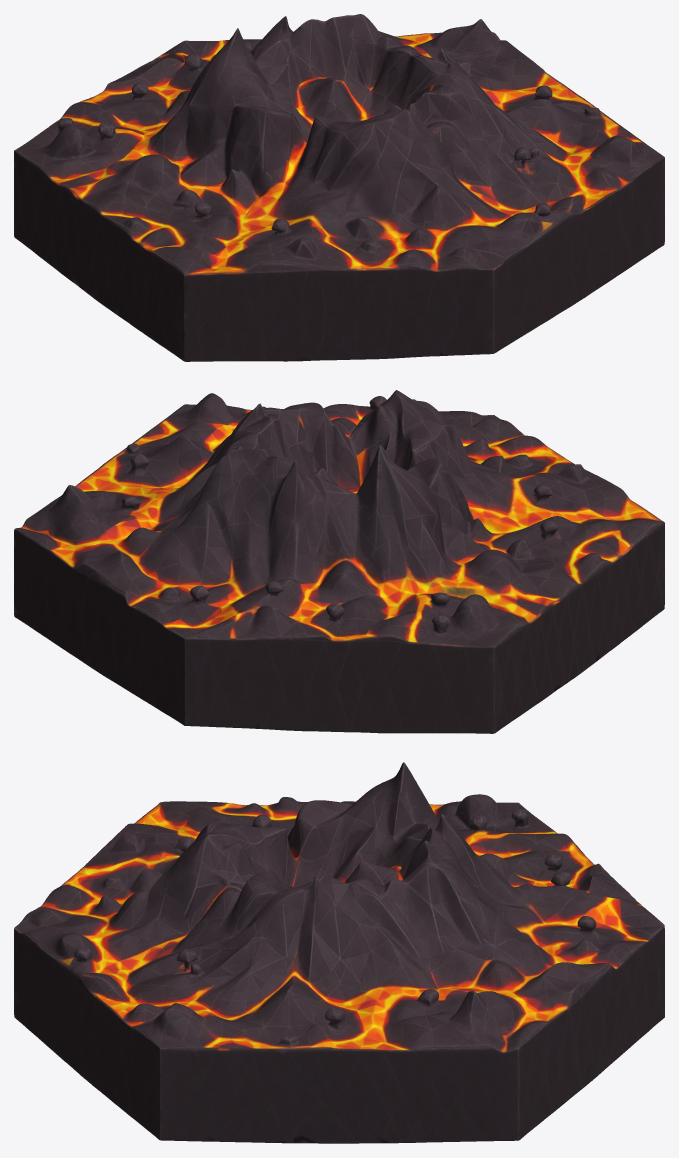
Rendered from Volcanic.fbx.
The picture shows the model from 3 angles, top to bottom: view 1: azimuth 30°, elevation 25°; view 2: azimuth 150°, elevation 25°; view 3: azimuth 270°, elevation 25°; orthographic projection. The views are drawn at different scales.
Parts seen in each view (by area): view 1: Mesh_0; view 2: Mesh_0; view 3: Mesh_0.
Boxes of the visible parts, x1,y1,x2,y2 form: Mesh_0: (14,14,664,361); Mesh_0: (14,390,664,733); Mesh_0: (14,762,664,1143).
Bounding box in the file's own units: 1.7 × 0.8927 × 1.9.
Materials: 1 (1 with a texture image).
